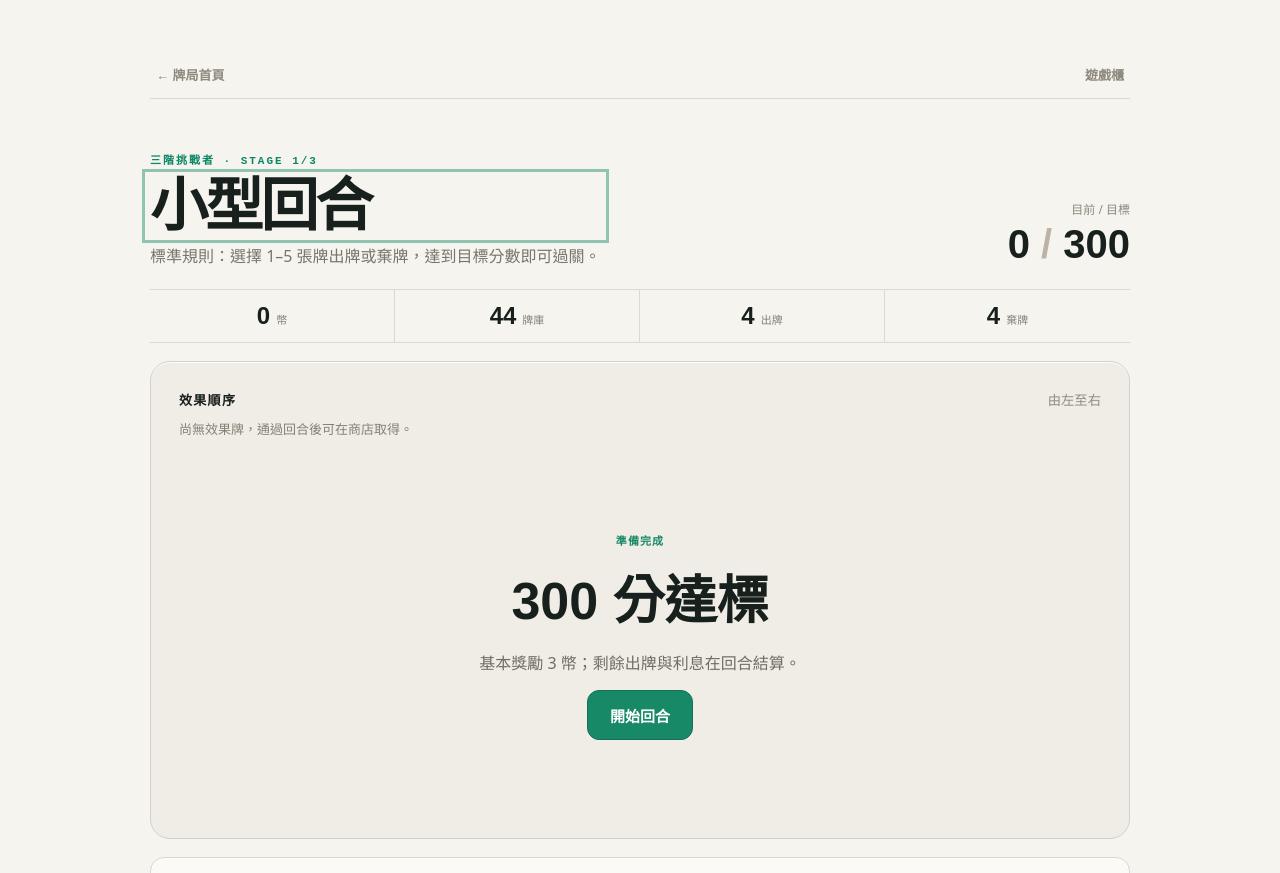
mounted poker play behavior › deals the opening hand with fresh markers while keeping card selection usable
The width and height of the screenshot is (1280, 873).
Click the button "開始回合" at (640, 715), box x1=587 y1=690 x2=693 y2=740
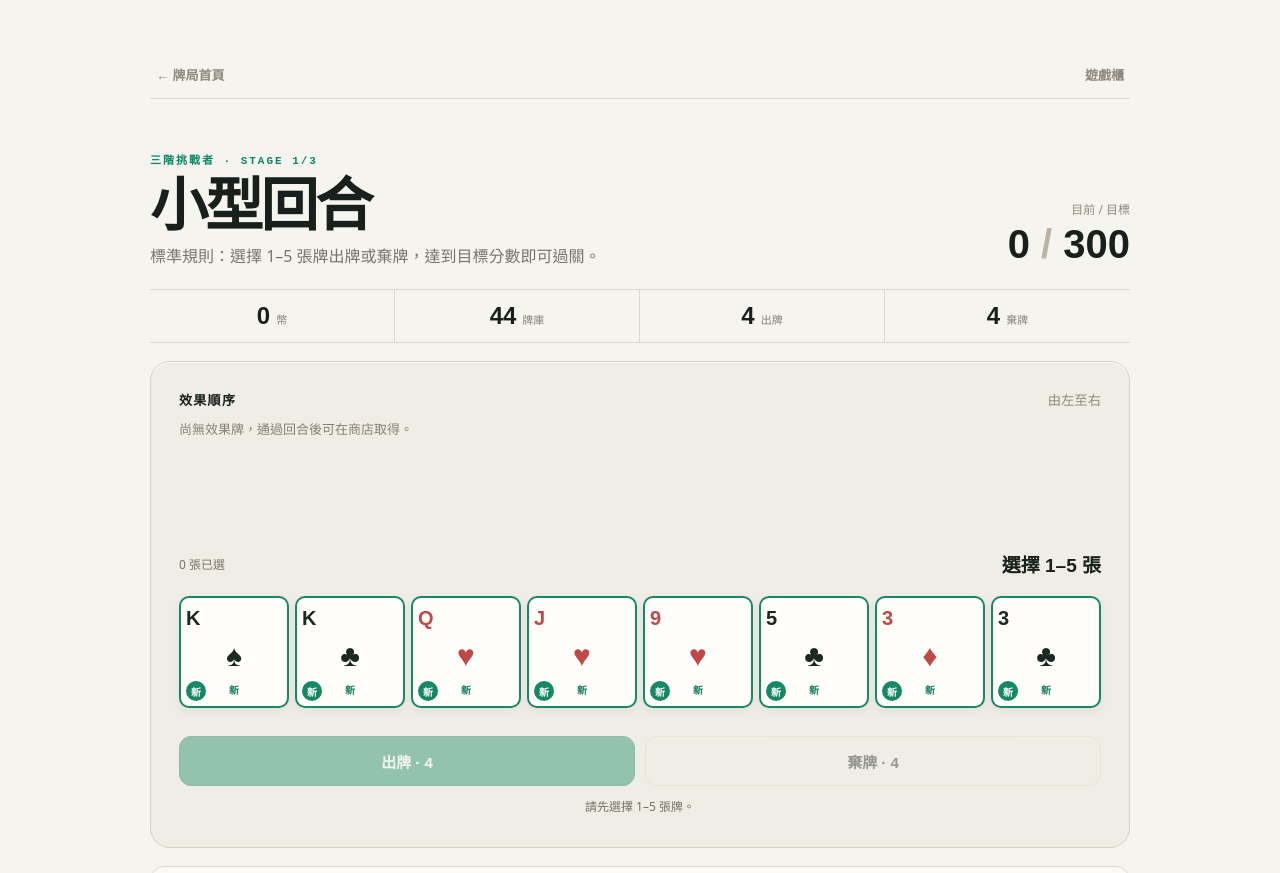
Expected: the number of buttons named "，新牌" is 8
Click the button named "，新牌" at (234, 652), box x1=179 y1=596 x2=289 y2=708
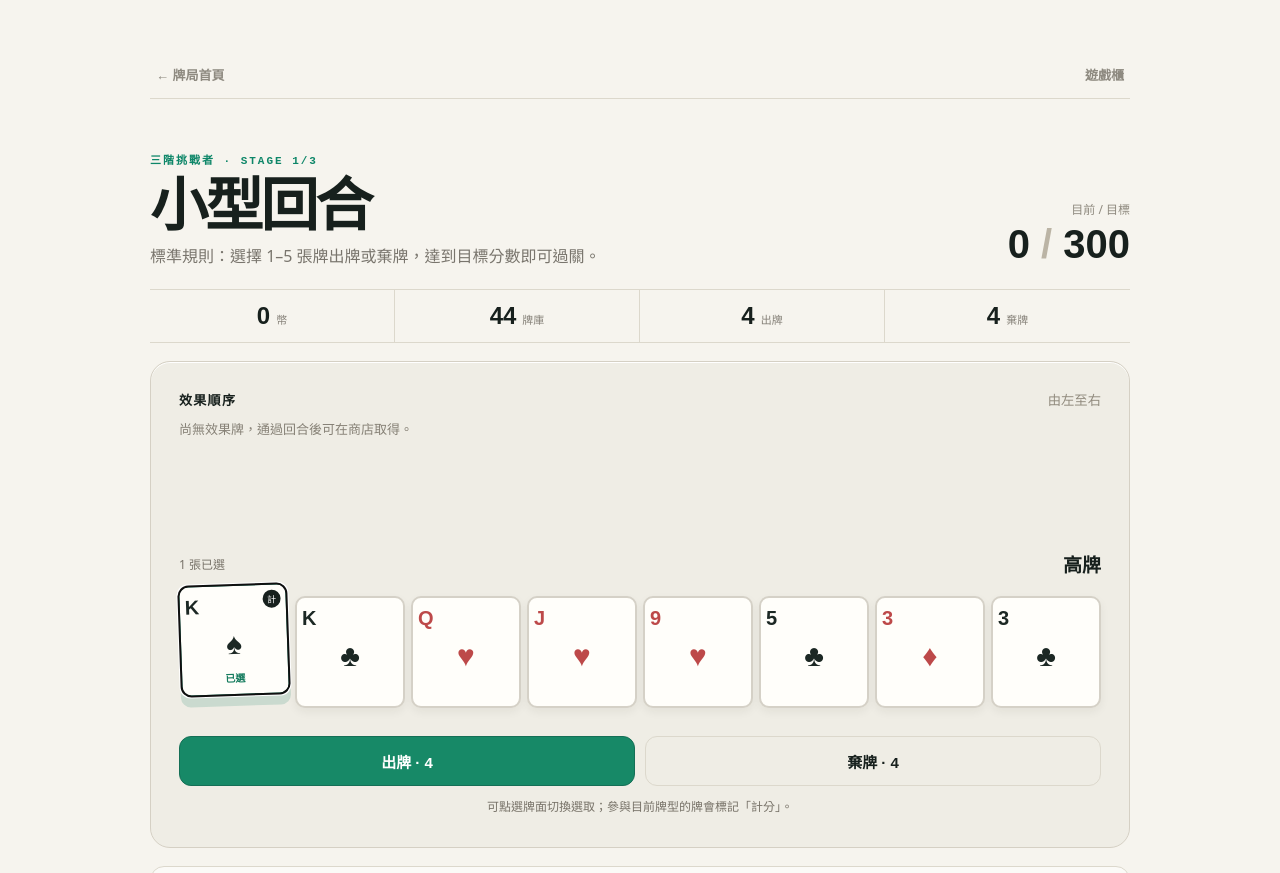
Expected: the button "出牌 · 4" is enabled, x1=179 y1=736 x2=635 y2=786
